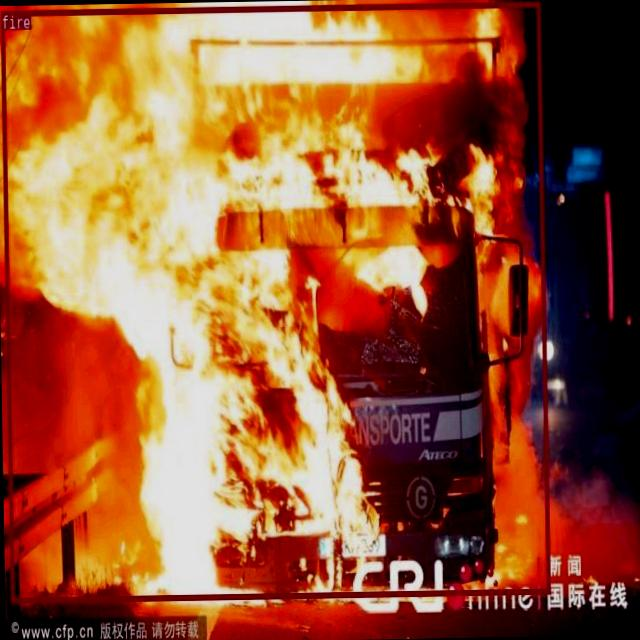fire: (0, 1, 549, 602)
